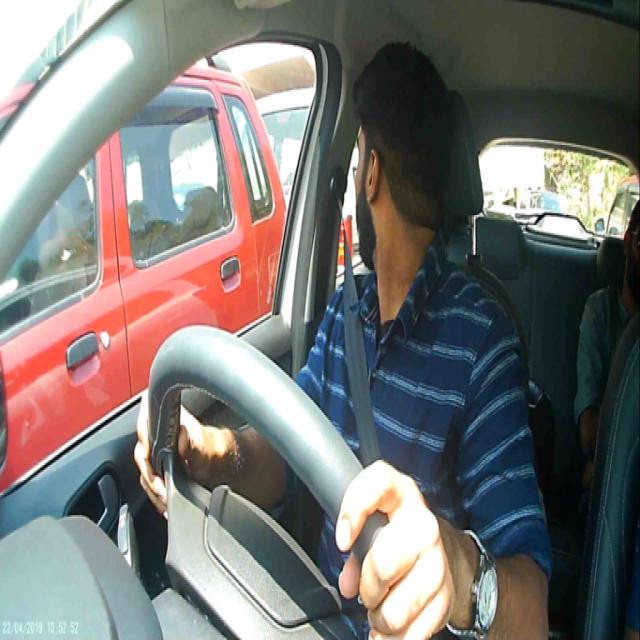seatbelt: (310, 273, 428, 470)
